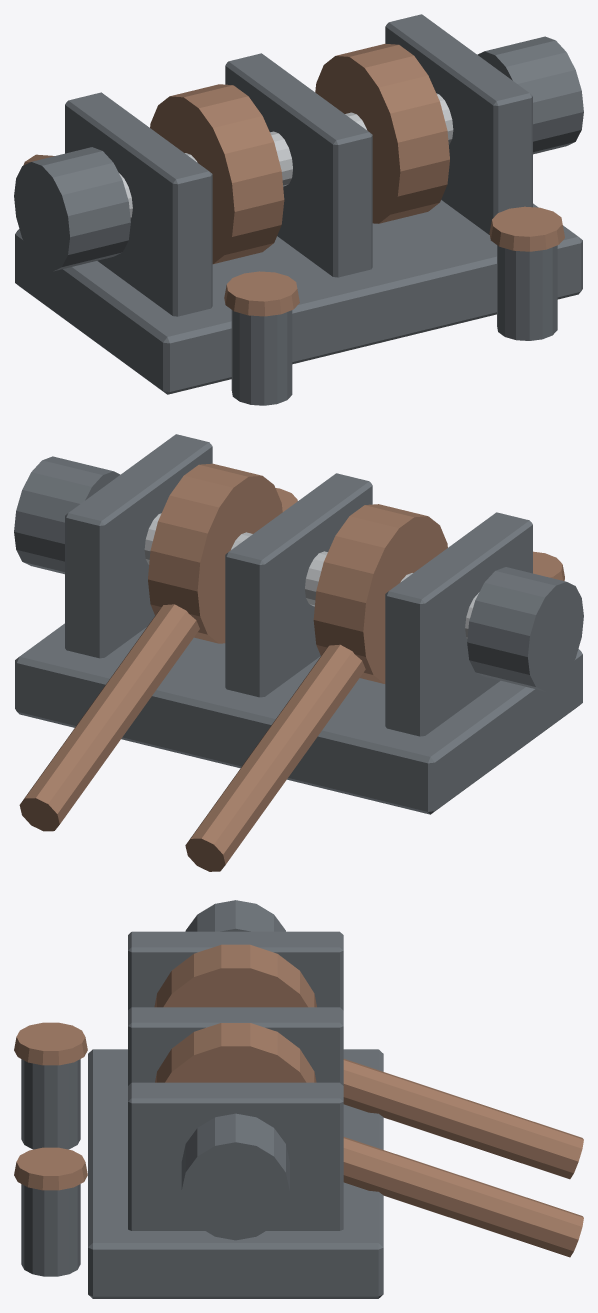
The model's file is ship_windlass.glb.
3 views of the same model, one above another, from view 1: azimuth 30°, elevation 25°; view 2: azimuth 150°, elevation 25°; view 3: azimuth 270°, elevation 25° (orthographic). The views are drawn at different scales.
Parts seen in each view (by area): view 1: WinBase, Stanch_-1.45, Stanch_0.0, Stanch_1.45, Gypsy_0.75, Gypsy_-0.75, WarpDrum_-2.05, WarpDrum_2.05, Bollard_-1.2, Bollard_1.2, BolCap_1.2, BolCap_-1.2 (+1 smaller); view 2: WinBase, Stanch_-1.45, Stanch_0.0, Stanch_1.45, Gypsy_0.75, Gypsy_-0.75, Chain_0.75, Chain_-0.75, WarpDrum_-2.05, WarpDrum_2.05, MainShaft, BolCap_-1.2; view 3: WinBase, Stanch_1.45, WarpDrum_2.05, Chain_0.75, Chain_-0.75, Stanch_0.0, Stanch_-1.45, Gypsy_-0.75, Gypsy_0.75, Bollard_1.2, Bollard_-1.2, BolCap_-1.2 (+2 smaller).
Part boxes in pixels (<box>): WinBase: <box>15,200,582,394</box>; Stanch_-1.45: <box>65,92,212,316</box>; Stanch_0.0: <box>225,53,372,277</box>; Stanch_1.45: <box>385,14,532,234</box>; Gypsy_0.75: <box>315,43,449,223</box>; Gypsy_-0.75: <box>150,84,284,264</box>; WarpDrum_-2.05: <box>14,147,130,271</box>; WarpDrum_2.05: <box>477,36,583,154</box>; Bollard_-1.2: <box>231,310,292,405</box>; Bollard_1.2: <box>497,245,557,340</box>; BolCap_1.2: <box>489,206,564,251</box>; BolCap_-1.2: <box>224,271,299,316</box>; WinBase: <box>15,623,582,814</box>; Stanch_-1.45: <box>385,512,532,736</box>; Stanch_0.0: <box>225,473,372,697</box>; Stanch_1.45: <box>65,434,212,658</box>; Gypsy_0.75: <box>148,463,282,643</box>; Gypsy_-0.75: <box>313,504,447,683</box>; Chain_0.75: <box>19,604,199,831</box>; Chain_-0.75: <box>185,644,365,871</box>; WarpDrum_-2.05: <box>467,567,583,691</box>; WarpDrum_2.05: <box>14,456,120,574</box>; MainShaft: <box>144,513,479,638</box>; BolCap_-1.2: <box>533,551,564,580</box>; WinBase: <box>88,1049,383,1298</box>; Stanch_1.45: <box>128,1082,343,1230</box>; WarpDrum_2.05: <box>181,1113,289,1240</box>; Chain_0.75: <box>343,1137,583,1257</box>; Chain_-0.75: <box>343,1059,583,1179</box>; Stanch_0.0: <box>128,1007,343,1085</box>; Stanch_-1.45: <box>128,931,343,1010</box>; Gypsy_-0.75: <box>154,944,316,1007</box>; Gypsy_0.75: <box>155,1023,316,1082</box>; Bollard_1.2: <box>21,1184,80,1276</box>; Bollard_-1.2: <box>21,1059,80,1149</box>; BolCap_-1.2: <box>14,1022,87,1065</box>.
Size of the model in its own units: 4.65 by 1.98 by 4.63.
